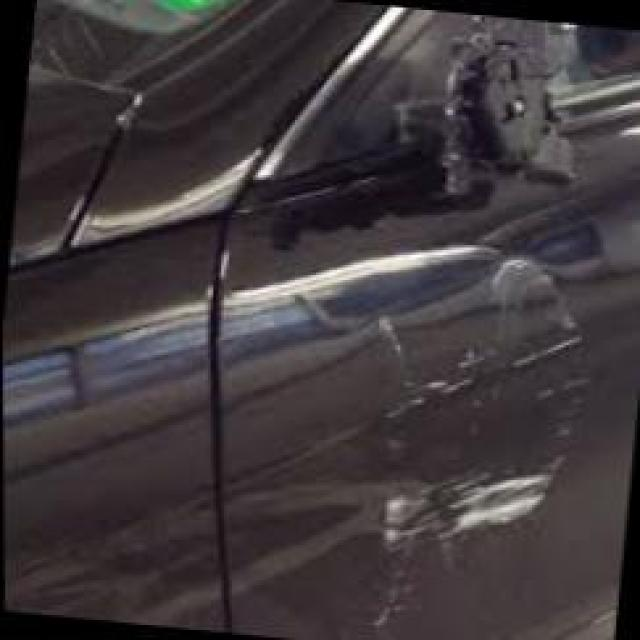Door: (237, 180, 639, 632)
